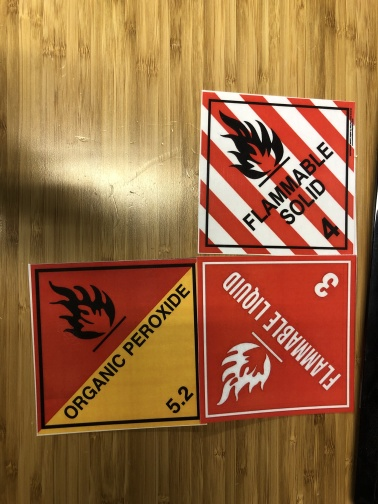FlammableLiquid: (198, 255, 354, 423)
FlammableSolid: (197, 88, 359, 256)
OrganicPeroxide: (31, 259, 207, 435)
